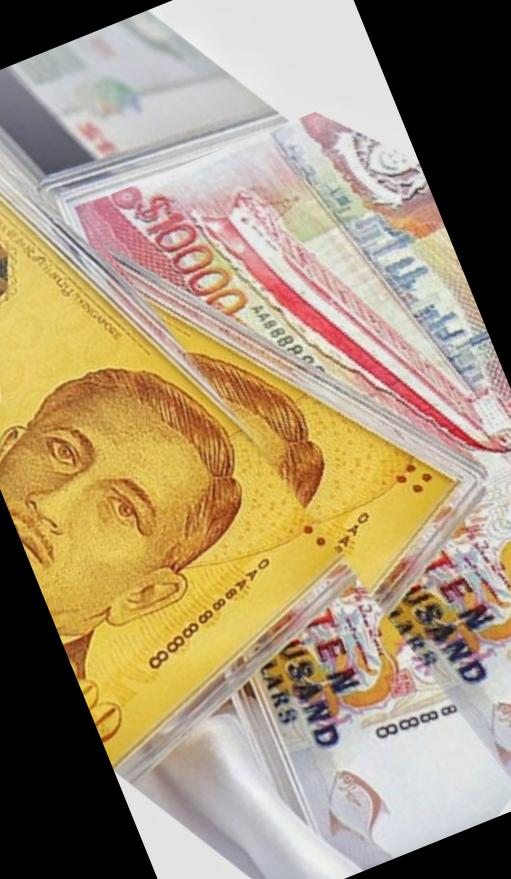10000SingaporeDollar: (75, 82, 511, 859)
